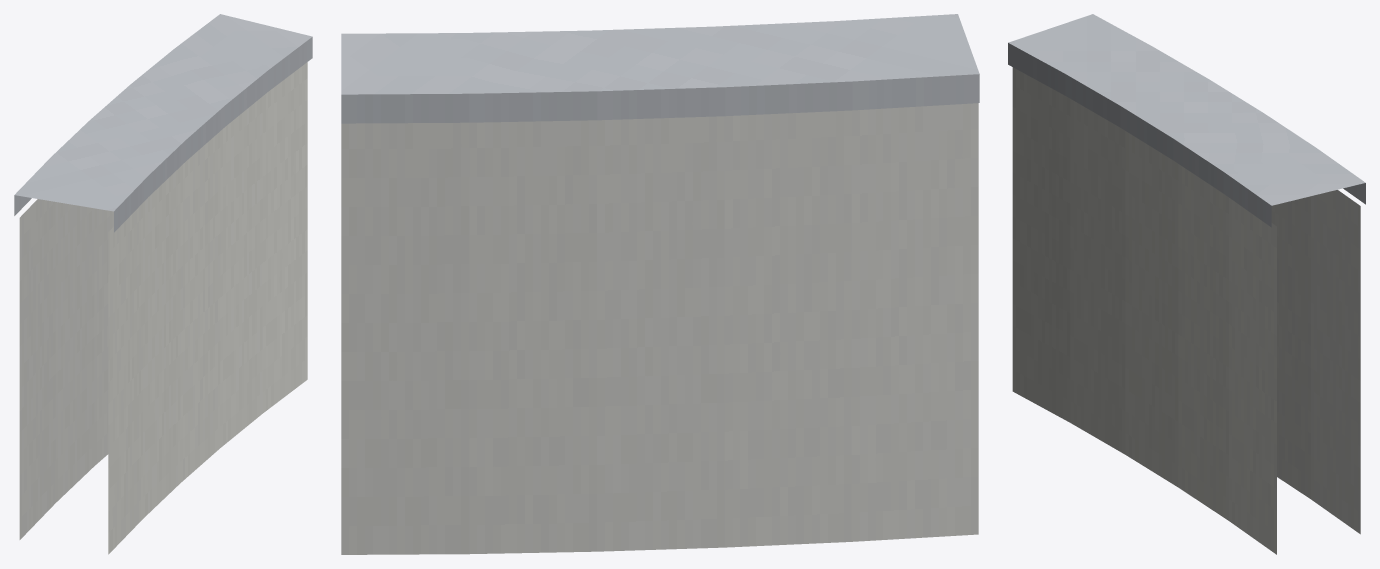
File: curve_board_09.obj
The picture shows the model from 3 angles, left to right: view 1: azimuth 30°, elevation 25°; view 2: azimuth 150°, elevation 25°; view 3: azimuth 270°, elevation 25°; orthographic projection. The views are drawn at different scales.
Visible parts, largest first — view 1: curve_board_09; view 2: curve_board_09; view 3: curve_board_09.
Boxes of the visible parts, x1,y1,x2,y2 form: curve_board_09: (14, 14, 312, 554); curve_board_09: (341, 14, 979, 554); curve_board_09: (1008, 14, 1365, 554).
Size of the model in its own units: 1.17 by 1 by 0.9254.
